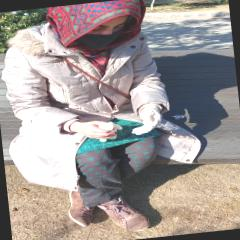gloved: (129, 106, 163, 136)
not-gloved: (70, 116, 114, 144)
